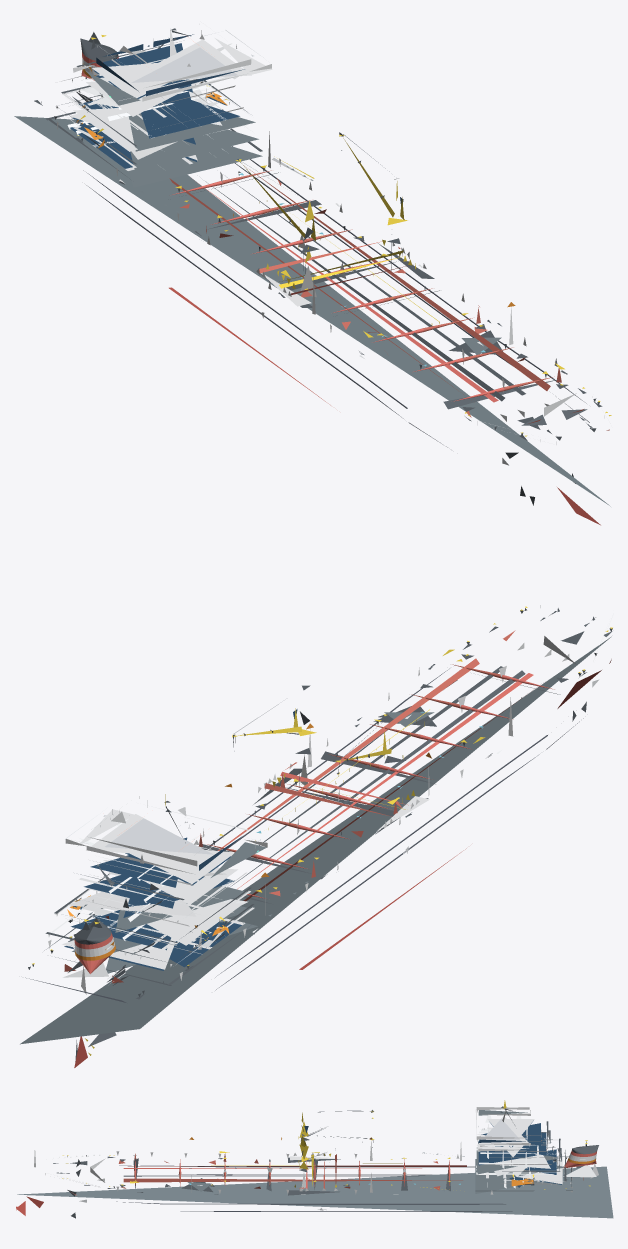
File: ship_23.glb
The picture shows the model from 3 angles, top to bottom: view 1: azimuth 30°, elevation 25°; view 2: azimuth 150°, elevation 25°; view 3: azimuth 270°, elevation 25°; orthographic projection. The views are drawn at different scales.
Visible parts, largest first — view 1: TrueHelm_Ship_23; view 2: TrueHelm_Ship_23; view 3: TrueHelm_Ship_23.
Part boxes in pixels (x1,y1,x2,y2): TrueHelm_Ship_23: (14, 21, 611, 525); TrueHelm_Ship_23: (20, 605, 613, 1067); TrueHelm_Ship_23: (16, 1100, 613, 1218).
Bounding box in the file's own units: 0.1439 × 0.1903 × 0.8735.
